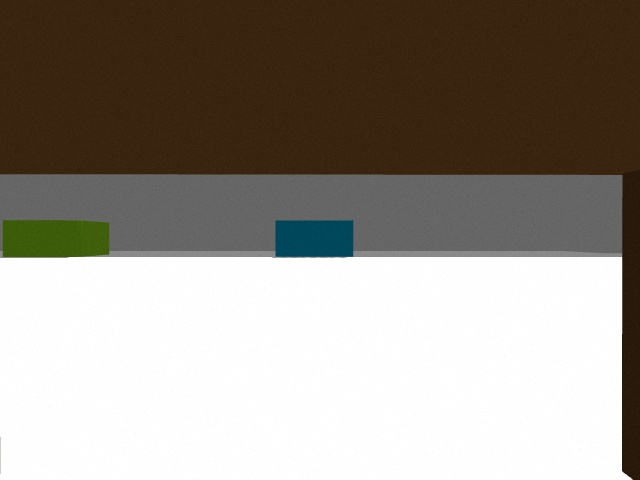blue_drop_zone: (275, 220, 353, 257)
green_drop_zone: (3, 220, 109, 257)
